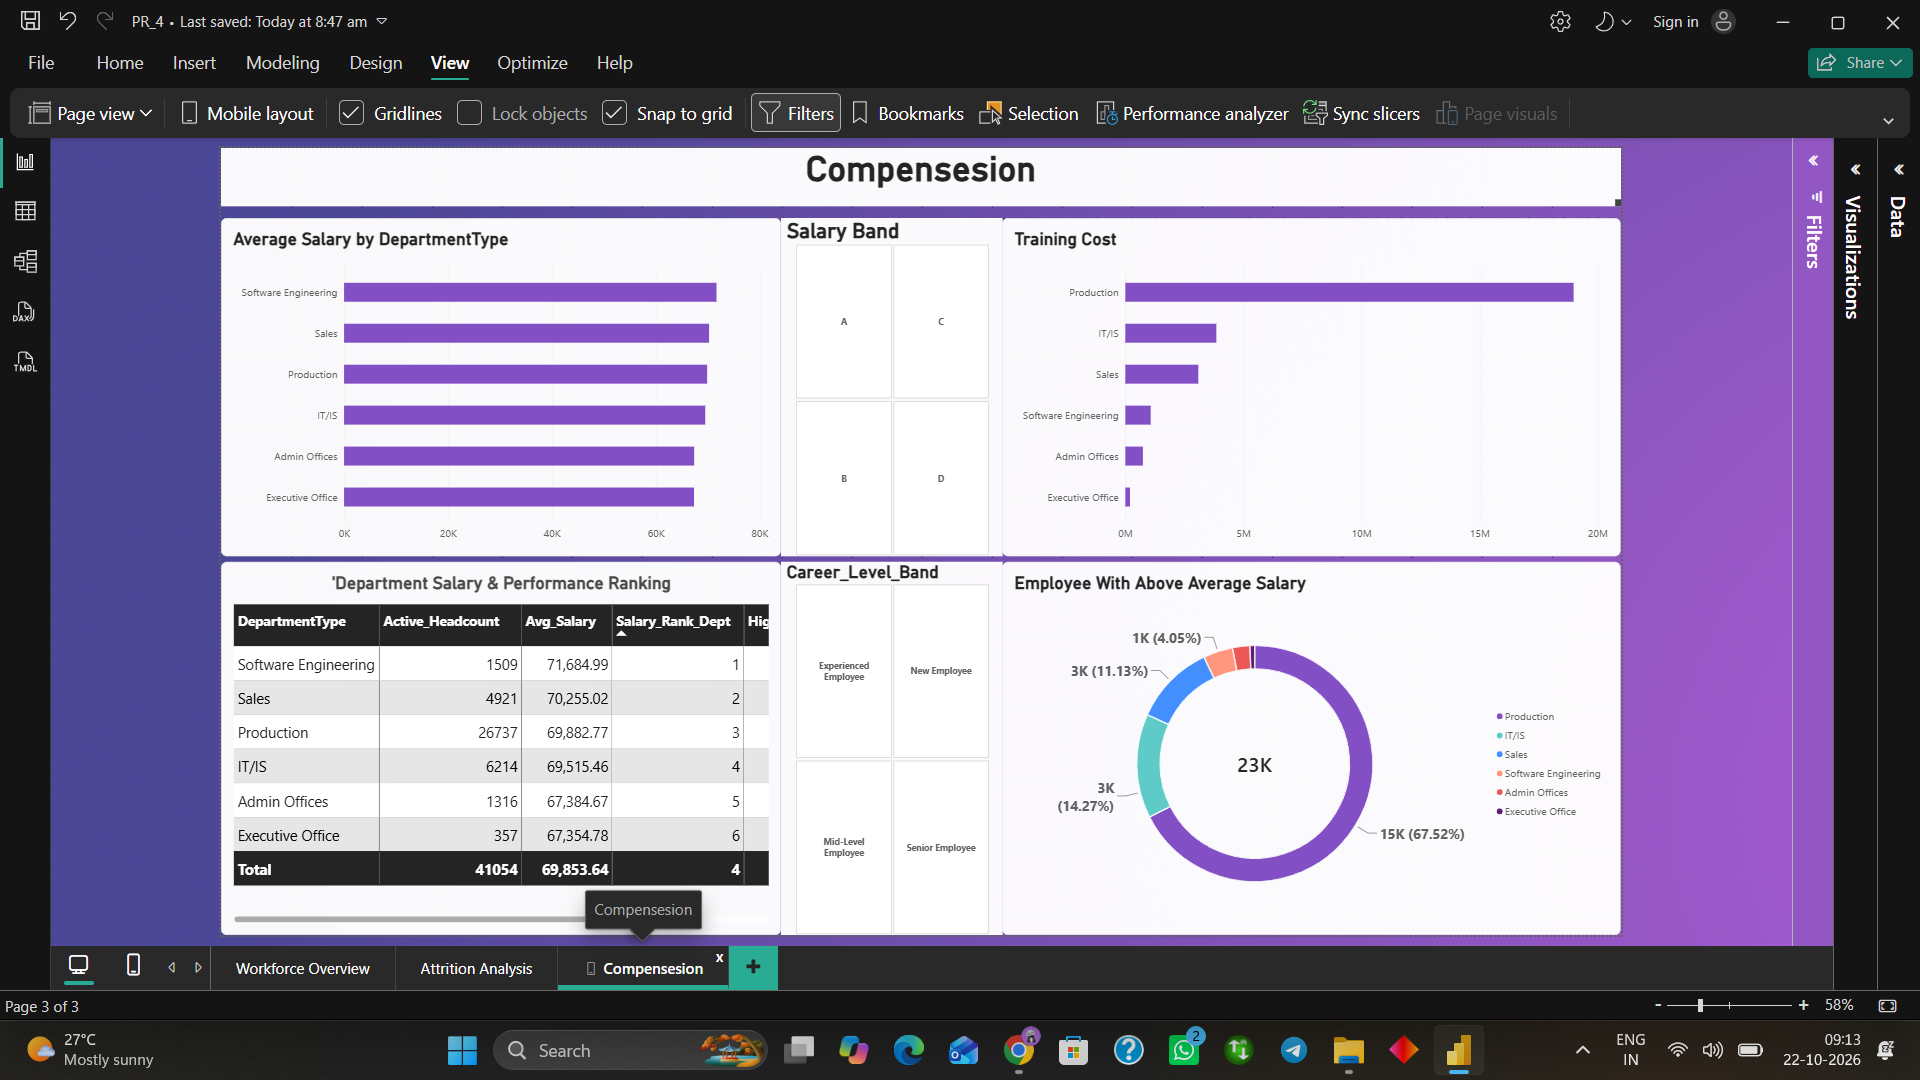

What the dashboard file says about the page in this screenshot:
{"tool":"powerbi","page":{"name":"Compensesion","canvas":[1920,1080],"ordinal":2},"visuals":[{"type":"barChart","fields":{"Category":["Employee_Master.DepartmentType"],"Y":["_Measures.Avg_Salary"]},"box":[0,96,768,464],"z":0},{"type":"tableEx","title":"''Department Salary & Performance Ranking","fields":{"Values":["Employee_Master.DepartmentType","_Measures.Active_Headcount","_Measures.Avg_Salary","_Measures.Salary_Rank_Dept","_Measures.High_Performer_%"]},"box":[0,568,768,512],"z":1000},{"type":"donutChart","title":"Employee With Above Average Salary","fields":{"Category":["Employee_Master.DepartmentType"],"Y":["Sum(Employee_Master.Above_Avg_Salary_Flag)"]},"box":[1072,568,848,512],"z":2000},{"type":"barChart","title":" Training Cost","fields":{"Category":["Employee_Master.DepartmentType"],"Y":["Sum(Training.Training Cost)"]},"box":[1072,96,848,464],"z":3000},{"type":"slicer","fields":{"Values":["Employee_Master.Salary Band"]},"box":[768,96,304,464],"z":4001},{"type":"slicer","fields":{"Values":["Employee_Master.Career_Level_Band"]},"box":[768,568,304,512],"z":4002},{"type":"textbox","title":"Compensesion","box":[0,0,1920,80],"z":4003}]}

Visuals, with their boxes on the page's 1920x1080 design canvas (x1, y1, x2, y2). These are canvas units, not pixel positions in the 1920x1080 screenshot, which may show the page scaled, cropped or inside an application window:
barChart - Employee_Master.DepartmentType x _Measures.Avg_Salary: <box>0,96,768,560</box>
"''Department Salary & Performance Ranking" tableEx: <box>0,568,768,1080</box>
"Employee With Above Average Salary" donutChart: <box>1072,568,1920,1080</box>
" Training Cost" barChart: <box>1072,96,1920,560</box>
slicer - Employee_Master.Salary Band: <box>768,96,1072,560</box>
slicer - Employee_Master.Career_Level_Band: <box>768,568,1072,1080</box>
"Compensesion" textbox: <box>0,0,1920,80</box>
